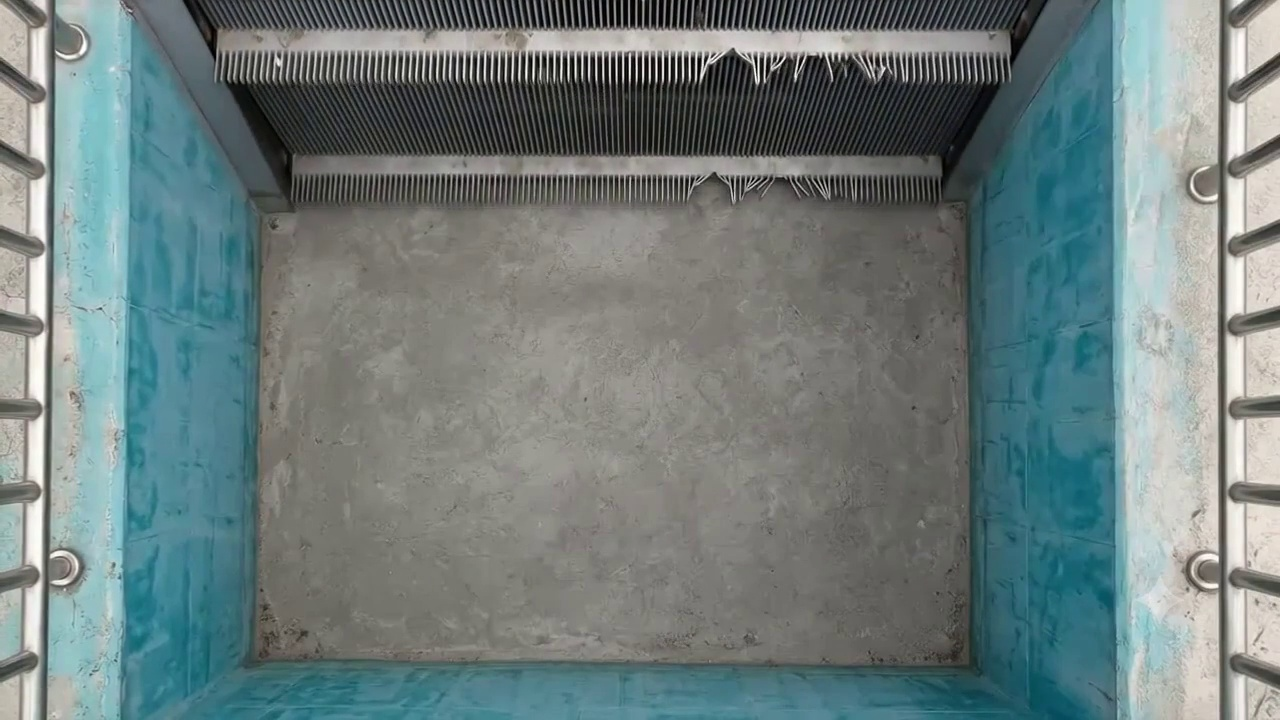damage: (687, 40, 913, 97), (676, 167, 864, 219)
